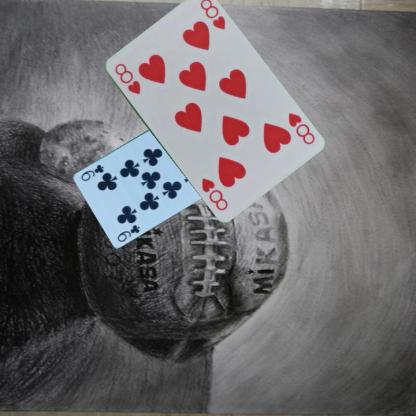8h: (285, 110, 316, 146), (112, 60, 141, 96)
9c: (115, 222, 141, 243)
